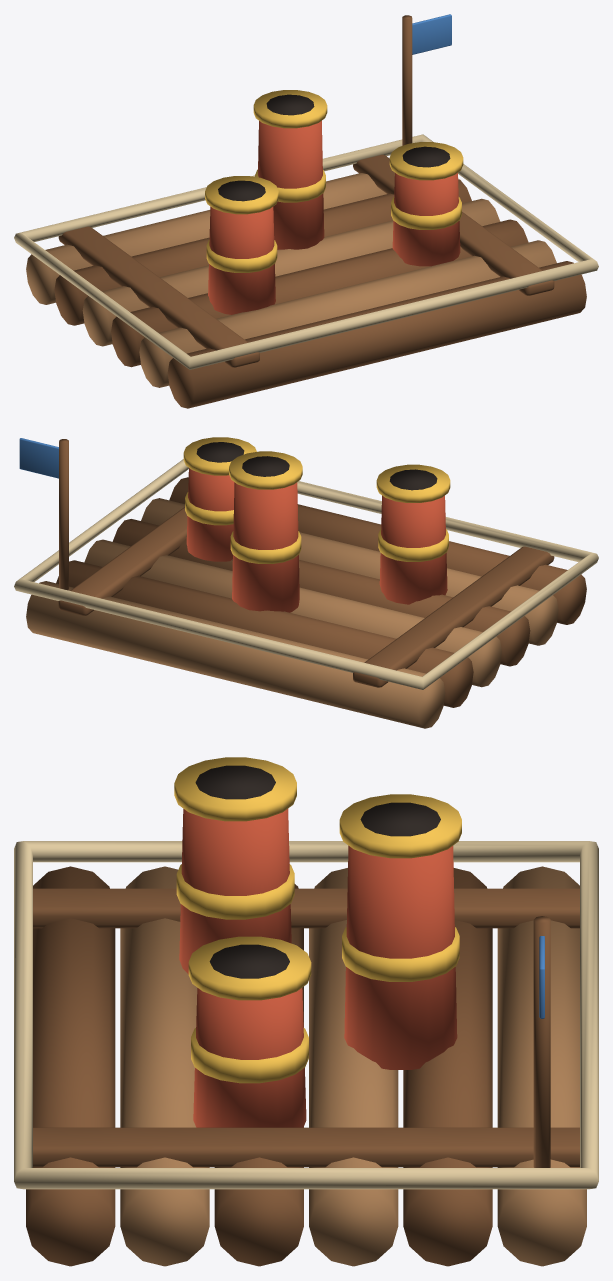
Rendered from event-raft.glb.
The picture shows the model from 3 angles, top to bottom: view 1: azimuth 30°, elevation 25°; view 2: azimuth 150°, elevation 25°; view 3: azimuth 270°, elevation 25°; orthographic projection. The views are drawn at different scales.
Parts seen in each view (by area): view 1: raft; view 2: raft; view 3: raft.
Part boxes in pixels (x1,y1,x2,y2): raft: [14, 14, 598, 408]; raft: [14, 437, 598, 728]; raft: [14, 757, 598, 1266].
Size of the model in its own units: 1.71 by 0.765 by 1.24.
